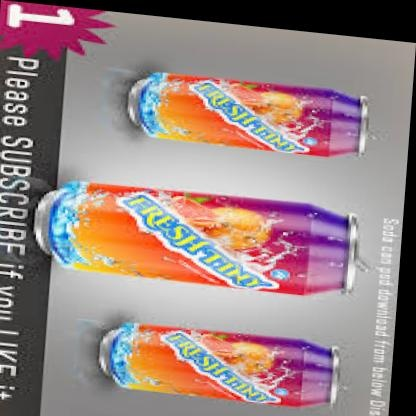trash: (36, 180, 356, 294), (99, 322, 338, 406), (128, 72, 366, 156)
